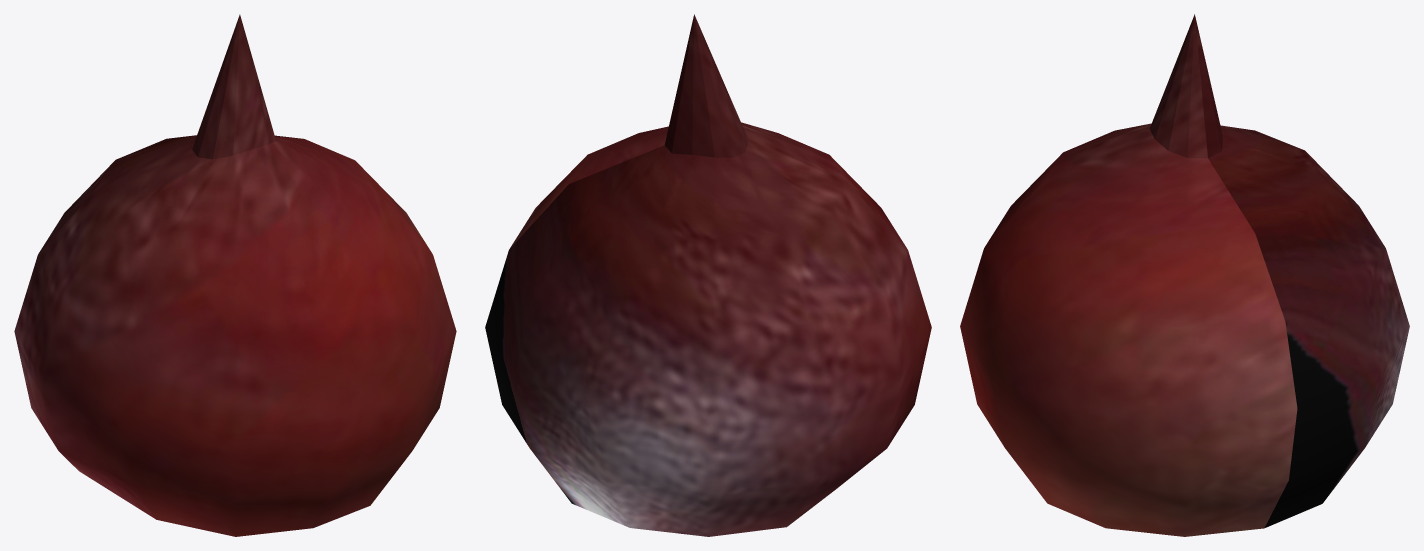
Rendered from onian.fbx.
The picture shows the model from 3 angles, left to right: view 1: azimuth 30°, elevation 25°; view 2: azimuth 150°, elevation 25°; view 3: azimuth 270°, elevation 25°; orthographic projection.
Visible parts, largest first — view 1: onian; view 2: onian; view 3: onian.
Boxes of the visible parts, <box> form: onian: <box>14,14,456,536</box>; onian: <box>485,14,931,536</box>; onian: <box>960,14,1409,536</box>.
Size of the model in its own units: 18.75 by 22.17 by 18.75.
